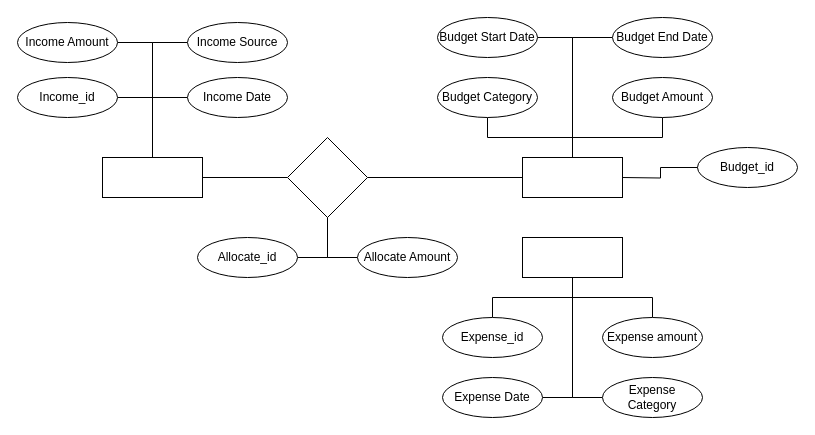
Image size: 815x435. Some labels were removed from this diagram. Here are the shapes that lost their labels. From the top down, the box of each, then its label:
(102, 156, 202, 198): Income
(286, 136, 368, 218): Allocate
(522, 156, 622, 198): Budget
(522, 236, 622, 278): Expense
